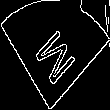M_SW: (30, 21, 80, 89)
